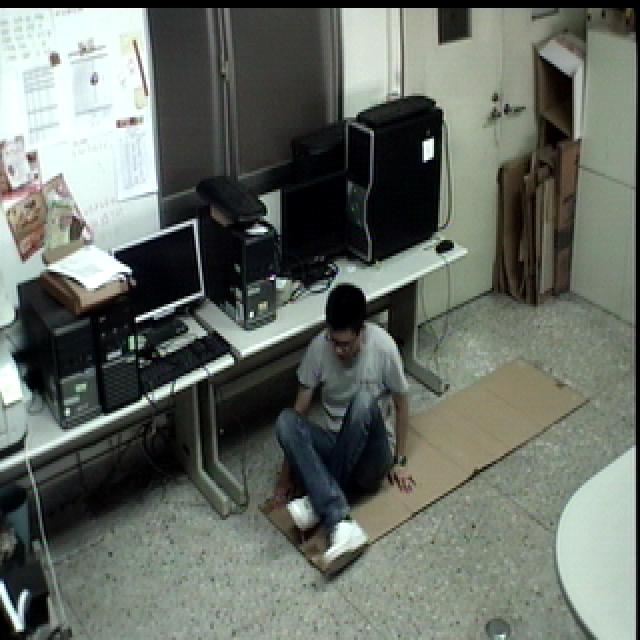sit: (262, 277, 422, 572)
